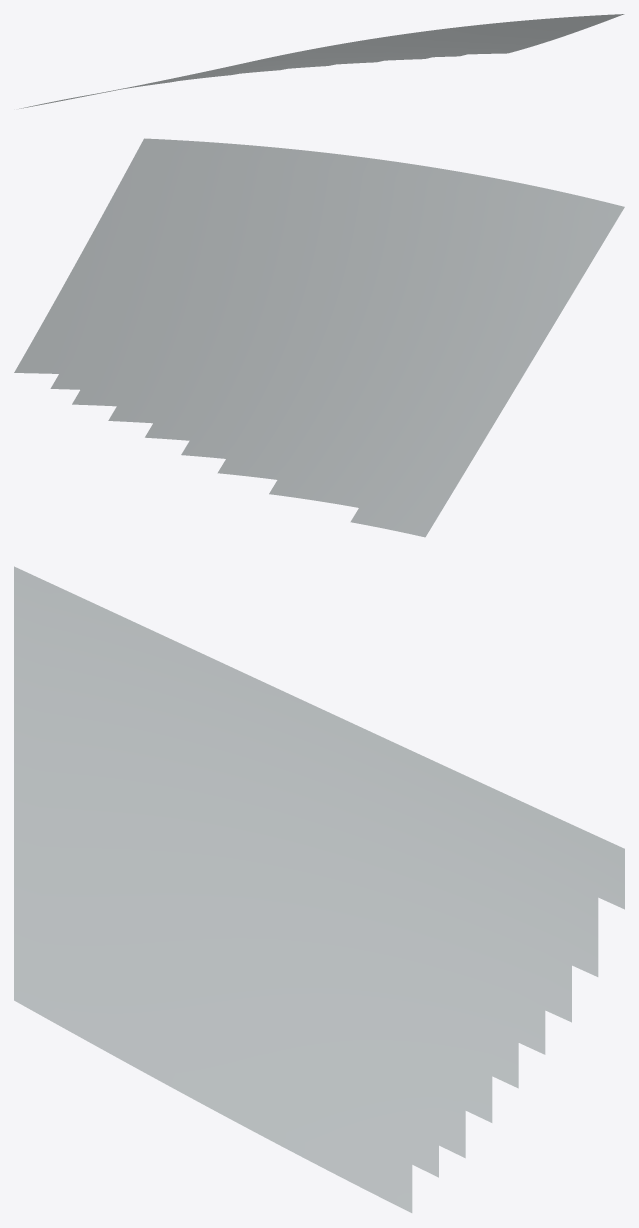
Rendered from alpine-14-7.glb.
3 renders of one model, top to bottom at view 1: azimuth 30°, elevation 25°; view 2: azimuth 150°, elevation 25°; view 3: azimuth 270°, elevation 25°, orthographic. The views are drawn at different scales.
Parts seen in each view (by area): view 1: alpine-14-7; view 2: alpine-14-7; view 3: alpine-14-7.
Boxes of the visible parts, x1,y1,x2,y2 form: alpine-14-7: (19, 14, 624, 108); alpine-14-7: (14, 138, 624, 537); alpine-14-7: (14, 566, 624, 1212).
Bounding box in the file's own units: 256 × 96.06 × 184.
1 material, 1 textured.
